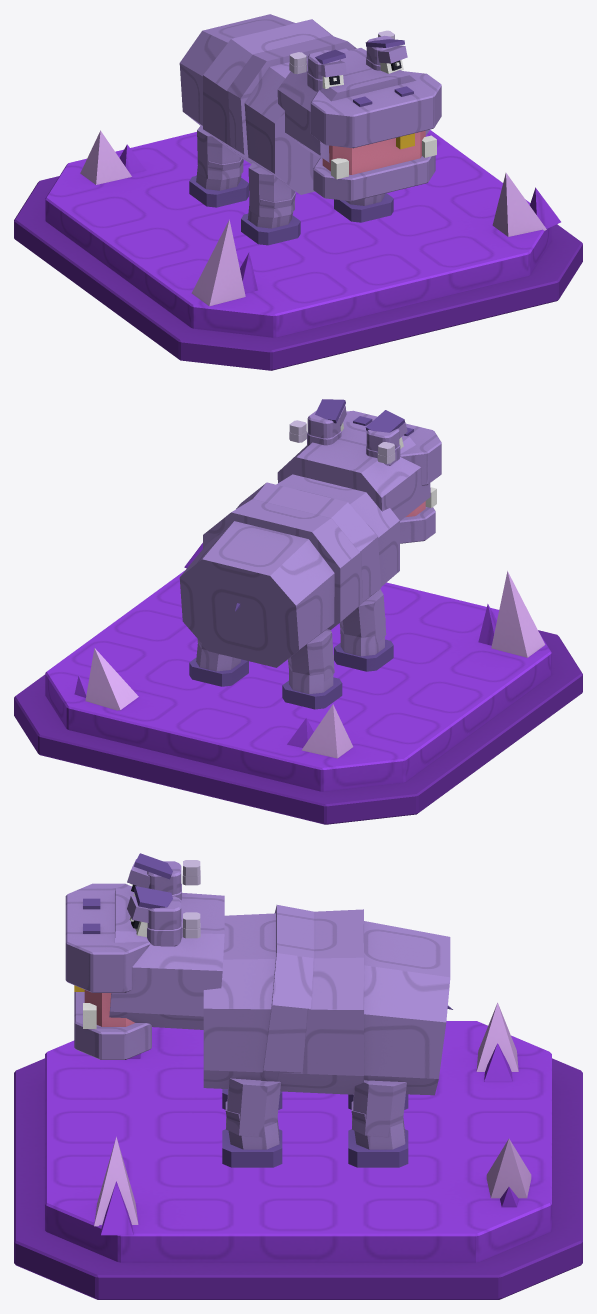
The model's file is GoldToothHippo.fbx.
The picture shows the model from 3 angles, top to bottom: view 1: azimuth 30°, elevation 25°; view 2: azimuth 150°, elevation 25°; view 3: azimuth 270°, elevation 25°; orthographic projection. The views are drawn at different scales.
Visible parts, largest first — view 1: Art_GoldToothHippo_Stand, Art_GoldToothHippo_Body, Art_GoldToothHippo_Head; view 2: Art_GoldToothHippo_Stand, Art_GoldToothHippo_Body, Art_GoldToothHippo_Head; view 3: Art_GoldToothHippo_Stand, Art_GoldToothHippo_Body, Art_GoldToothHippo_Head.
Part boxes in pixels (x1,y1,x2,y2): Art_GoldToothHippo_Stand: (14,130,582,370); Art_GoldToothHippo_Body: (179,14,393,245); Art_GoldToothHippo_Head: (277,30,441,201); Art_GoldToothHippo_Stand: (14,543,582,824); Art_GoldToothHippo_Body: (179,474,399,709); Art_GoldToothHippo_Head: (277,399,441,543); Art_GoldToothHippo_Stand: (14,1002,582,1299); Art_GoldToothHippo_Body: (203,905,450,1167); Art_GoldToothHippo_Head: (65,853,224,1059).
Size of the model in its own units: 3.3 by 1.96 by 3.3.
